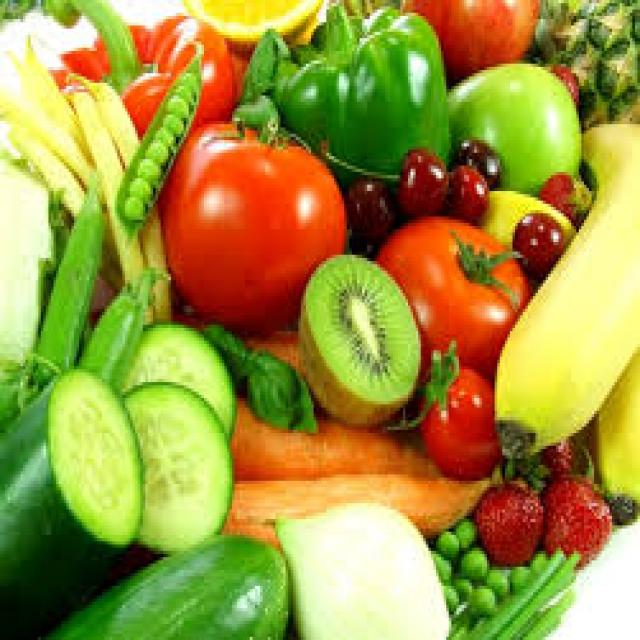organic waste: (494, 118, 638, 455), (156, 108, 344, 315), (0, 366, 143, 637), (283, 6, 451, 198), (38, 0, 242, 131), (64, 70, 168, 318), (270, 497, 452, 637), (372, 210, 526, 370), (41, 535, 288, 634), (0, 89, 122, 273), (296, 252, 420, 424), (64, 83, 150, 318), (120, 379, 232, 551), (216, 468, 489, 538), (5, 121, 120, 277), (446, 57, 579, 191), (230, 395, 446, 474), (112, 57, 202, 242), (530, 0, 637, 127), (28, 185, 102, 366), (120, 318, 232, 433), (202, 318, 316, 430), (392, 0, 536, 80), (413, 340, 495, 478), (582, 341, 638, 519), (79, 264, 163, 376), (454, 548, 556, 636), (23, 32, 89, 162), (484, 544, 576, 637), (474, 184, 576, 254), (472, 456, 540, 560), (181, 0, 321, 48), (540, 471, 607, 564), (0, 341, 54, 436), (5, 51, 59, 137), (342, 172, 392, 245), (395, 144, 444, 214), (512, 207, 558, 271), (240, 325, 303, 369), (538, 172, 592, 223), (515, 589, 571, 637), (444, 137, 499, 185), (444, 162, 484, 220), (0, 140, 48, 184), (33, 252, 54, 328), (331, 0, 400, 22), (543, 57, 576, 99), (48, 191, 66, 255), (456, 541, 482, 583), (536, 440, 568, 474), (464, 582, 490, 618), (122, 175, 150, 198), (448, 573, 472, 599), (484, 567, 505, 595), (143, 137, 166, 162), (133, 156, 158, 178), (163, 92, 186, 115), (171, 80, 191, 105), (431, 548, 446, 576), (441, 580, 454, 612), (508, 563, 526, 586), (178, 67, 194, 92), (153, 124, 173, 143), (120, 194, 140, 213), (160, 112, 178, 130), (530, 548, 543, 564)
